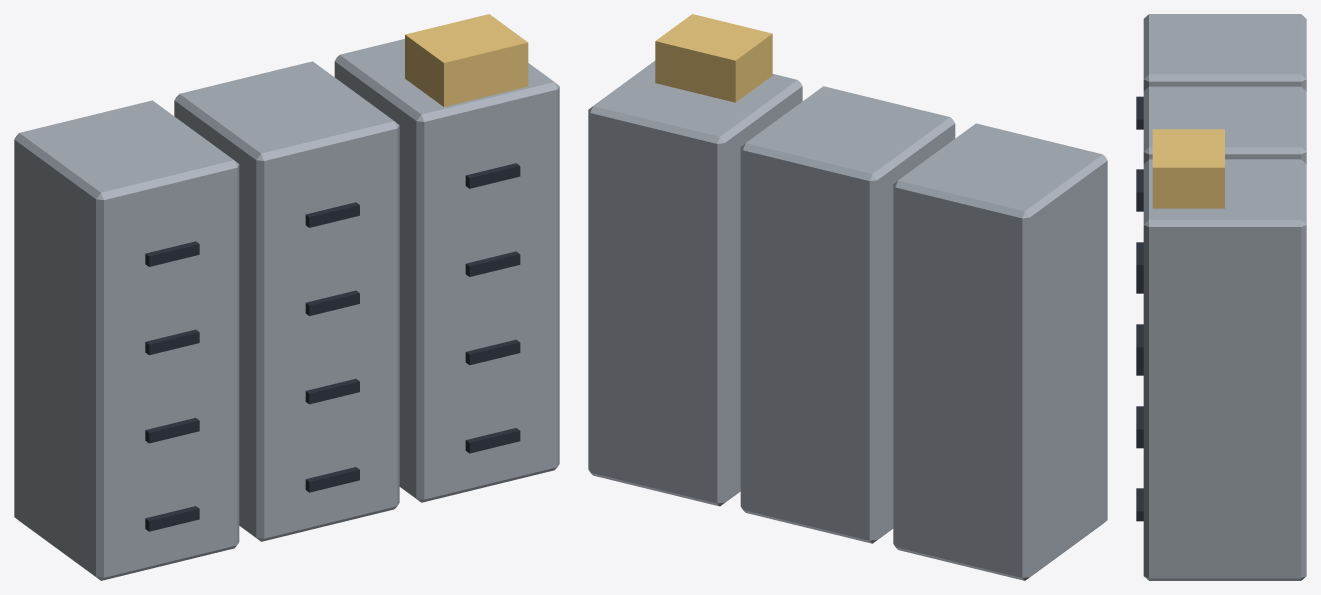
Rendered from cabinet.fbx.
The picture shows the model from 3 angles, left to right: view 1: azimuth 30°, elevation 25°; view 2: azimuth 150°, elevation 25°; view 3: azimuth 270°, elevation 25°; orthographic projection. The views are drawn at different scales.
Visible parts, largest first — view 1: cabinet; view 2: cabinet; view 3: cabinet.
Boxes of the visible parts, x1,y1,x2,y2 form: cabinet: [14, 14, 559, 580]; cabinet: [588, 14, 1107, 580]; cabinet: [1136, 14, 1306, 580].
Bounding box in the file's own units: 2.75 × 2.45 × 0.94.
